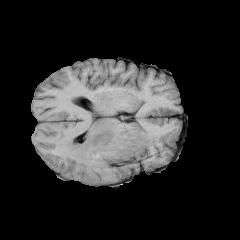glioma: (57, 116, 154, 161)
